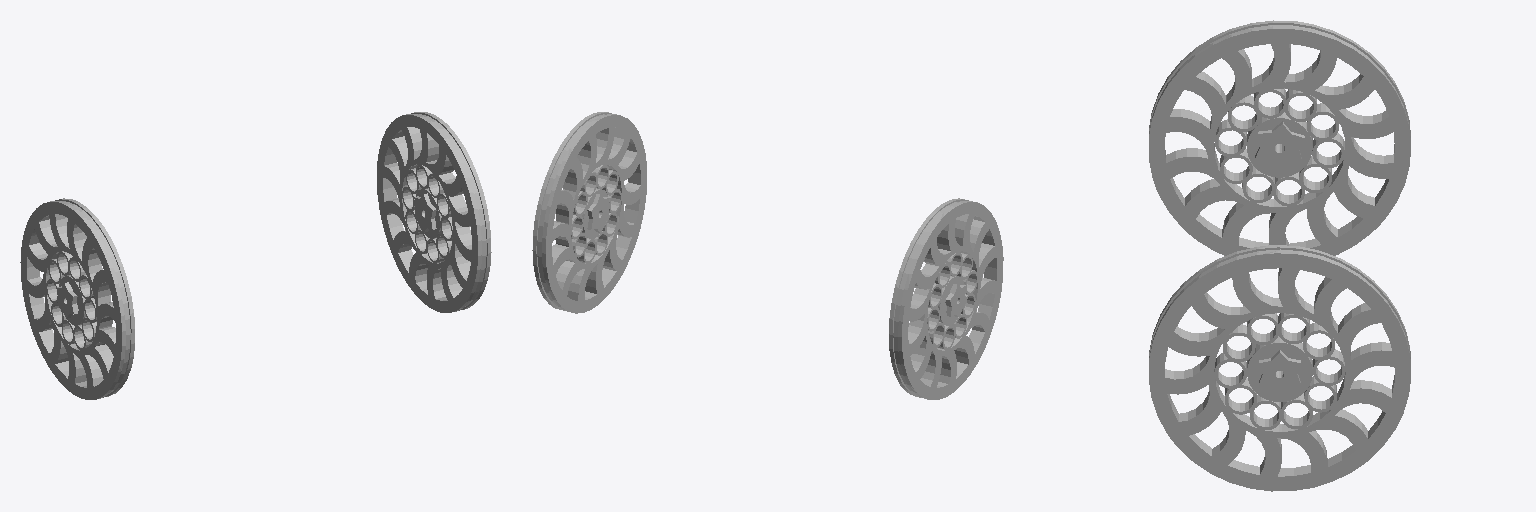
URDF robot description (vehicle_urdf):
<?xml version="1.0" encoding="utf-8"?>
<!-- This URDF was automatically created by SolidWorks to URDF Exporter! Originally created by [author] ([email redacted]) 
     Commit Version: 1.6.0-4-g7f85cfe  Build Version: 1.6.7995.38578
     For more information, please see http://wiki.ros.org/sw_urdf_exporter -->
<robot
  name="vehicle_urdf">
  <link
    name="base_link">
    <inertial>
      <origin
        xyz="-0.000336048068647204 0.00035402315490457 0.00427184762468202"
        rpy="0 0 0" />
      <mass
        value="1.5" />
      <inertia
        ixx="0.00026496750882837"
        ixy="2.84909543588441E-07"
        ixz="7.50259974068003E-08"
        iyy="0.000613798313752093"
        iyz="-2.77217301487704E-07"
        izz="0.0007656582527181" />
    </inertial>
    <visual>
      <origin
        xyz="0 0 0"
        rpy="0 0 0" />
      <geometry>
        <mesh
          filename="package://vehicle_urdf/meshes/base_link.STL" />
      </geometry>
      <material
        name="">
        <color
          rgba="0.752941176470588 0.752941176470588 0.752941176470588 1" />
      </material>
    </visual>
    <collision>
      <origin
        xyz="0 0 0"
        rpy="0 0 0" />
      <geometry>
        <mesh
          filename="package://vehicle_urdf/meshes/base_link.STL" />
      </geometry>
    </collision>
  </link>
  <link
    name="left_link">
    <inertial>
      <origin
        xyz="-1.08369629585325E-05 3.12229087590099E-06 3.24262305404152E-05"
        rpy="0 0 0" />
      <mass
        value="0.0145" />
      <inertia
        ixx="1.53230236850118E-05"
        ixy="1.00607955901595E-13"
        ixz="1.04485404656266E-12"
        iyy="7.71902603141114E-06"
        iyz="-2.63256202727207E-13"
        izz="7.71902332273961E-06" />
    </inertial>
    <visual>
      <origin
        xyz="0 0 0"
        rpy="0 0 0" />
      <geometry>
        <mesh
          filename="package://vehicle_urdf/meshes/left_link.STL" />
      </geometry>
      <material
        name="">
        <color
          rgba="0.752941176470588 0.752941176470588 0.752941176470588 1" />
      </material>
    </visual>
    <collision>
      <origin
        xyz="0 0 0"
        rpy="0 0 0" />
      <geometry>
        <mesh
          filename="package://vehicle_urdf/meshes/left_link.STL" />
      </geometry>
    </collision>
  </link>
  <joint
    name="l_joint"
    type="continuous">
    <origin
      xyz="-0.075795 -0.0053031 -0.063655"
      rpy="0 0 0" />
    <parent
      link="base_link" />
    <child
      link="left_link" />
    <axis
      xyz="1 0 0" />
  </joint>
  <link
    name="right_wheel">
    <inertial>
      <origin
        xyz="1.08369629591154E-05 2.22044604925031E-16 3.25762049258674E-05"
        rpy="0 0 0" />
      <mass
        value="0.0145" />
      <inertia
        ixx="1.53230236850118E-05"
        ixy="4.66996081329479E-21"
        ixz="-1.0496865945009E-12"
        iyy="7.71902605675846E-06"
        iyz="1.05905576794184E-21"
        izz="7.71902329738955E-06" />
    </inertial>
    <visual>
      <origin
        xyz="0 0 0"
        rpy="0 0 0" />
      <geometry>
        <mesh
          filename="package://vehicle_urdf/meshes/right_wheel.STL" />
      </geometry>
      <material
        name="">
        <color
          rgba="0.752941176470588 0.752941176470588 0.752941176470588 1" />
      </material>
    </visual>
    <collision>
      <origin
        xyz="0 0 0"
        rpy="0 0 0" />
      <geometry>
        <mesh
          filename="package://vehicle_urdf/meshes/right_wheel.STL" />
      </geometry>
    </collision>
  </link>
  <joint
    name="r_joint"
    type="continuous">
    <origin
      xyz="0.085805 -0.0052455 -0.063658"
      rpy="0 0 0" />
    <parent
      link="base_link" />
    <child
      link="right_wheel" />
    <axis
      xyz="1 0 0" />
  </joint>
</robot>

--- Render facts (derived) ---
3 views of the same robot in one strip: view 1: azimuth 30°, elevation 25°; view 2: azimuth 150°, elevation 25°; view 3: azimuth 270°, elevation 25° (orthographic).
Robot: vehicle_urdf — 3 links, 2 joints (2 continuous); root link base_link; default pose: all joints at 0.
Links seen in each view (by area): view 1: right_wheel, left_link; view 2: right_wheel, left_link; view 3: right_wheel, left_link.
Link boxes in pixels (bbox=[...]): right_wheel: bbox=[377, 112, 491, 312]; left_link: bbox=[20, 198, 134, 399]; right_wheel: bbox=[532, 112, 646, 313]; left_link: bbox=[889, 198, 1003, 399]; right_wheel: bbox=[1149, 245, 1410, 491]; left_link: bbox=[1149, 20, 1410, 255].
Bounding box of the posed robot: 0.173 × 0.0799 × 0.08 m (x, y, z).
2 mesh visuals loaded from 3 distinct referenced files (2 binary STL); not drawn: 1 (reference not matched to a file when rendering).